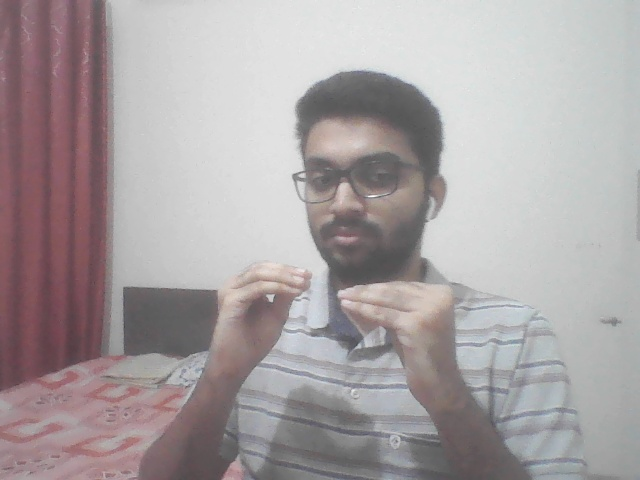more: (198, 255, 484, 396)
